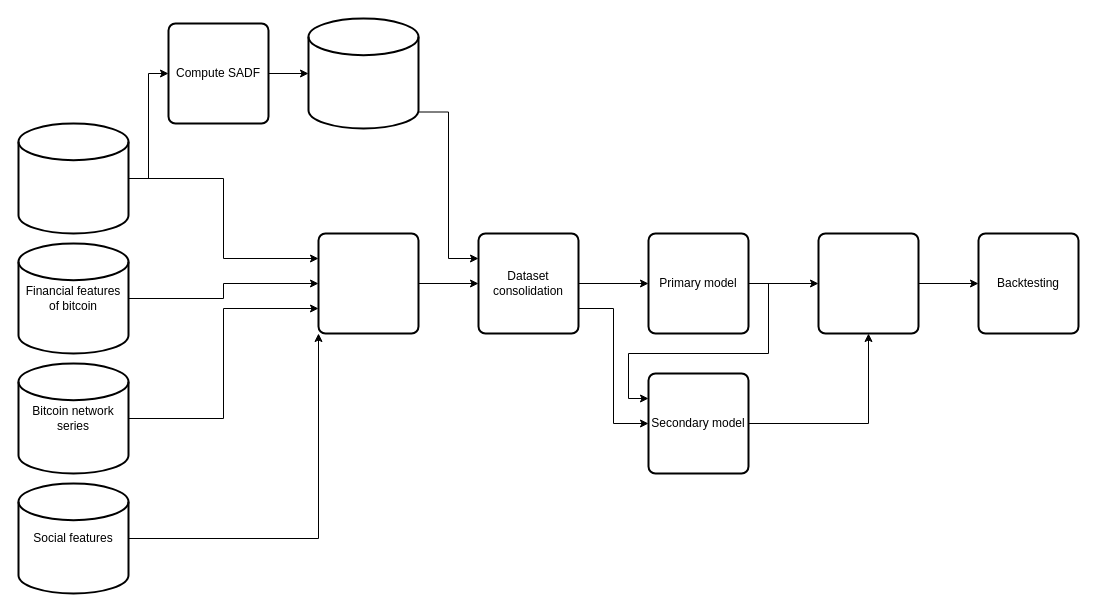
Image size: 1096x611. Some labels were removed from this diagram. Each missing label, with the centre of its shape:
"Bet sizing" goes at point (868, 283).
"Bitcoin price and volume series" goes at point (73, 178).
"Feeature engineering & fractional differentiation" goes at point (368, 283).
"SADF features" goes at point (363, 73).
